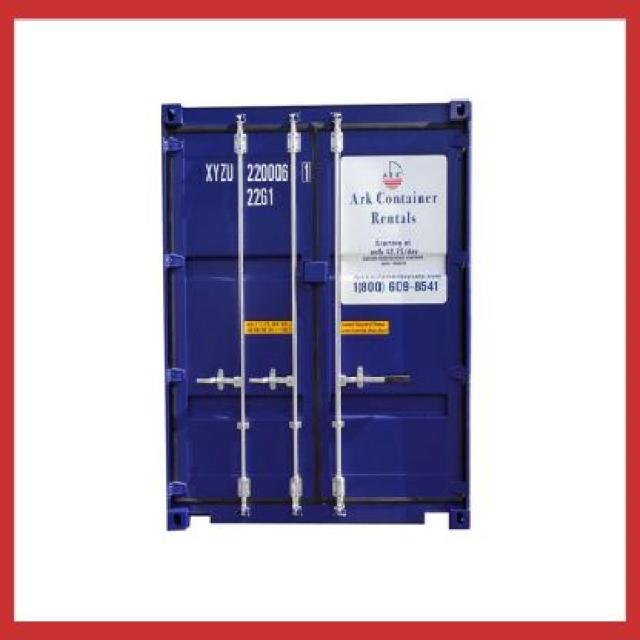ISO: (244, 186, 276, 207)
container_number: (202, 161, 319, 184)
